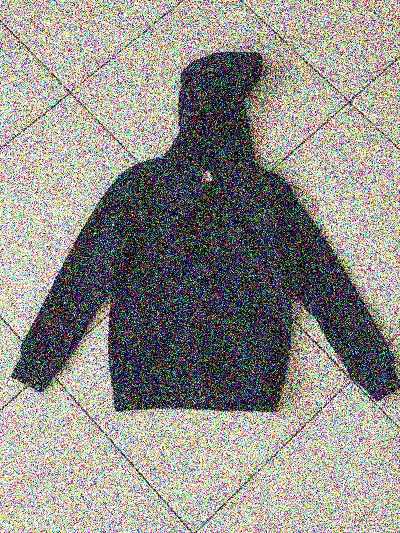Hoodie: (34, 41, 390, 427)
